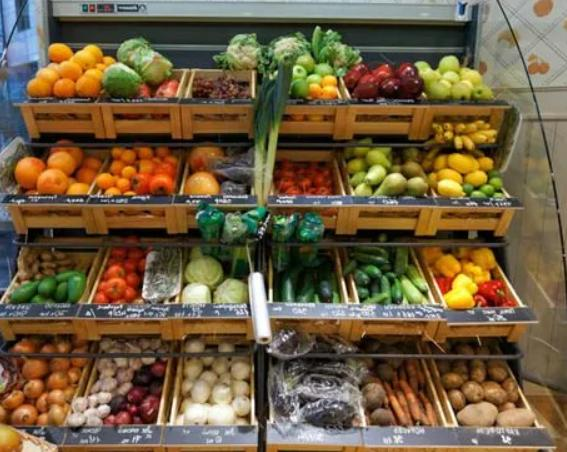banana: (434, 120, 497, 148)
beet: (362, 376, 392, 428)
carrot: (276, 242, 344, 317), (388, 362, 440, 436)
cucumber: (345, 248, 400, 307)
eggplant: (268, 353, 362, 431)
garlic: (72, 338, 138, 433)
ginger: (17, 243, 75, 283)
grapes: (184, 70, 251, 111)
green apple: (416, 56, 496, 100), (283, 54, 328, 100)
lemon: (429, 154, 497, 200)
mandarin: (93, 146, 143, 202)
onion: (0, 340, 86, 431), (176, 338, 251, 435), (116, 364, 168, 432)
orange: (24, 42, 116, 98), (8, 142, 100, 198)
pear: (346, 142, 428, 200)
pomegranate: (275, 156, 332, 202)
potato: (441, 350, 519, 412)
red apple: (341, 56, 424, 110)
sweet pepper: (426, 238, 521, 325)
tomato: (183, 246, 249, 310), (92, 247, 146, 312)
